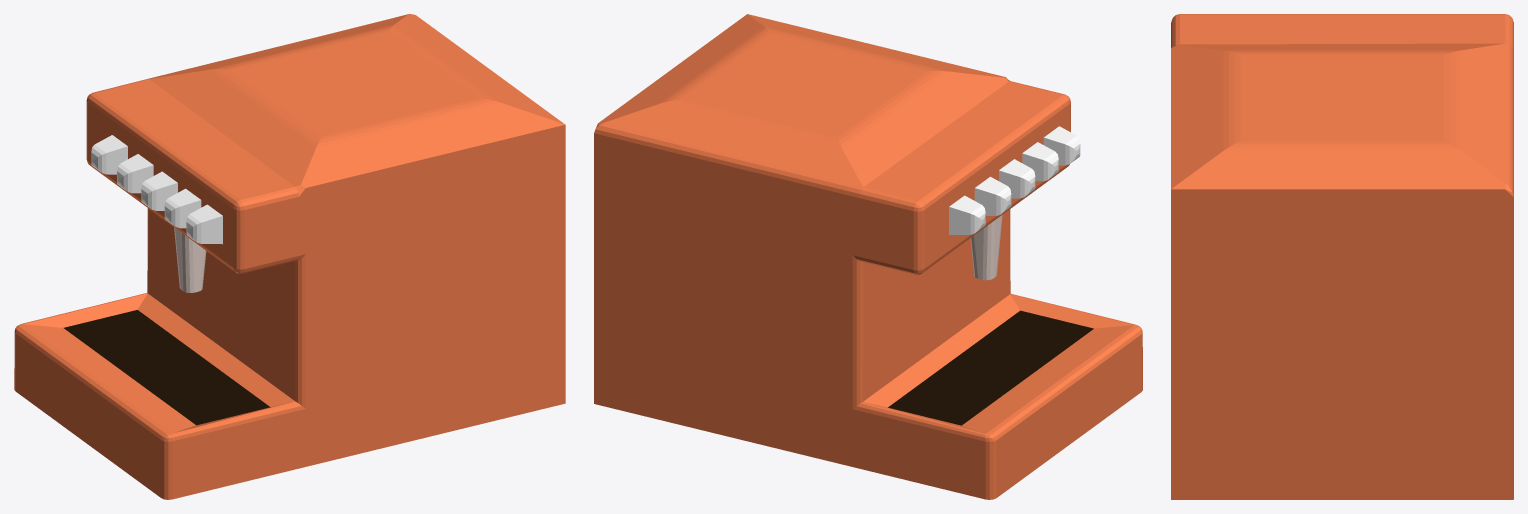
Rendered from Coffee maker.fbx.
3 renders of one model, left to right at view 1: azimuth 30°, elevation 25°; view 2: azimuth 150°, elevation 25°; view 3: azimuth 270°, elevation 25°, orthographic. The views are drawn at different scales.
Visible parts, largest first — view 1: Coffee maker; view 2: Coffee maker; view 3: Coffee maker.
Part boxes in pixels (x1,y1,x2,y2): Coffee maker: (14,14,565,499); Coffee maker: (594,14,1142,499); Coffee maker: (1171,14,1513,499).
Size of the model in its own units: 107 by 75.59 by 71.27.
